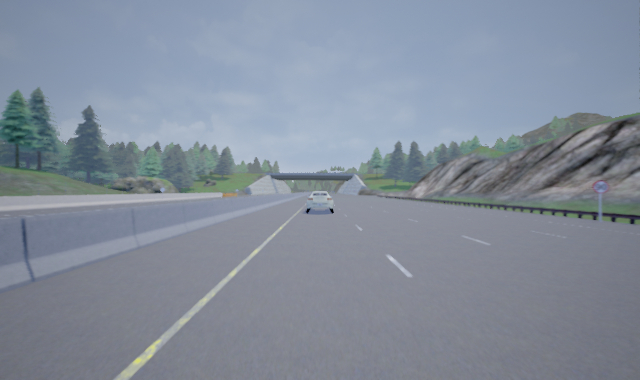traffic_sign: (593, 178, 610, 194)
vehicle: (305, 191, 334, 213)
